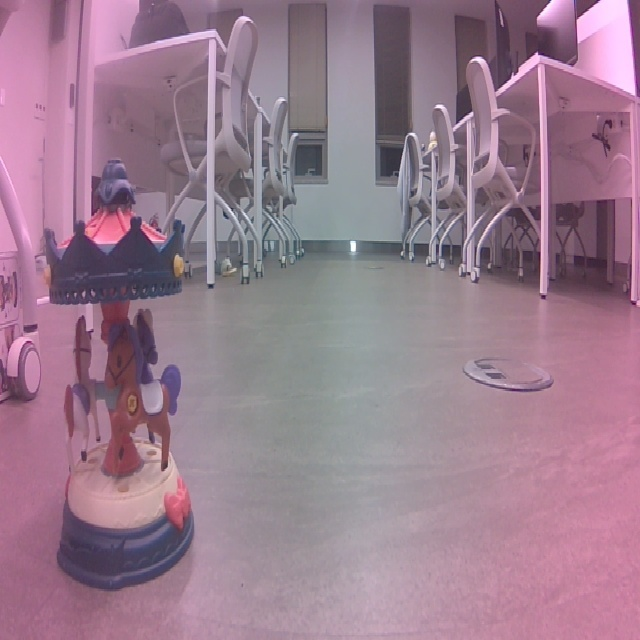목적지: (43, 150, 243, 556)
